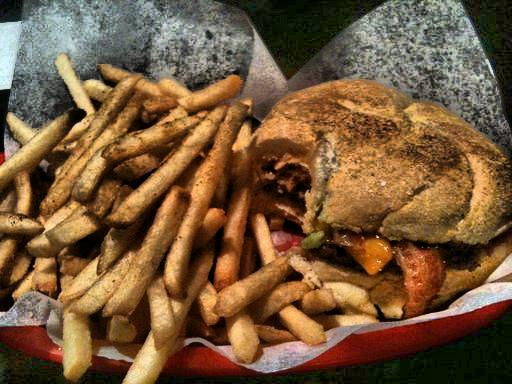pizza: (256, 75, 512, 323)
